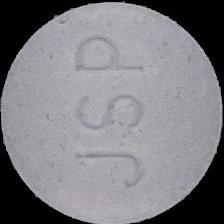51655-094: (0, 0, 224, 224)
